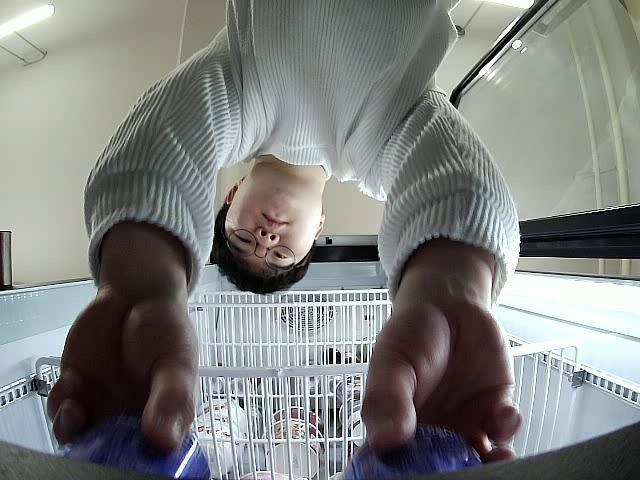14_welchsGrape: (56, 414, 210, 480), (329, 428, 485, 480)
